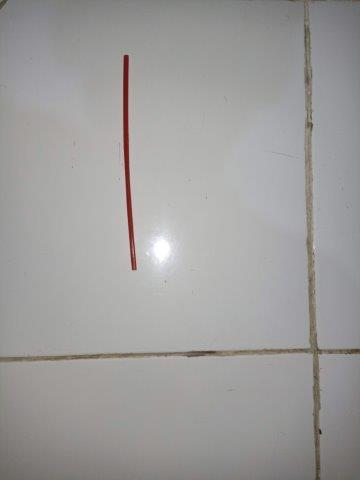sedotan: (122, 55, 138, 270)
